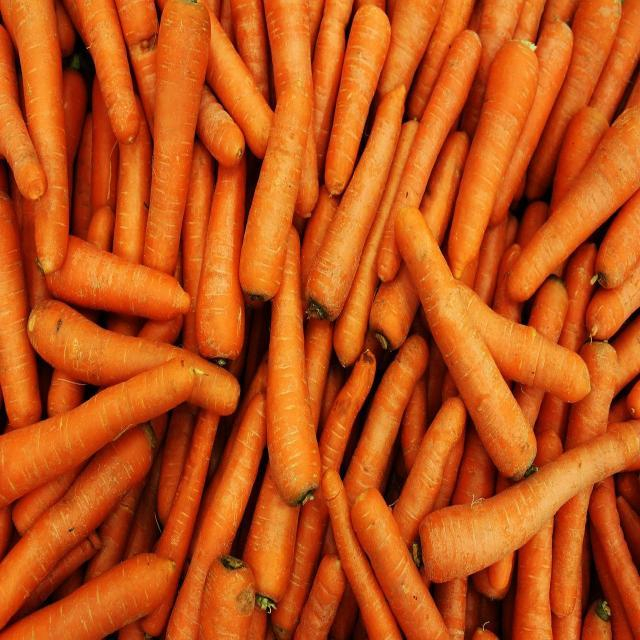carrot: (396, 205, 536, 488), (409, 430, 637, 574), (1, 425, 157, 630), (1, 359, 197, 509), (25, 295, 239, 425), (512, 96, 640, 304), (172, 385, 272, 640), (172, 390, 274, 640), (1, 1, 73, 275), (397, 38, 481, 272), (318, 89, 400, 318), (148, 1, 214, 281), (452, 46, 532, 277), (353, 488, 452, 640), (270, 228, 323, 508), (1, 557, 176, 640), (246, 83, 310, 301), (328, 10, 388, 194), (64, 1, 137, 147)
